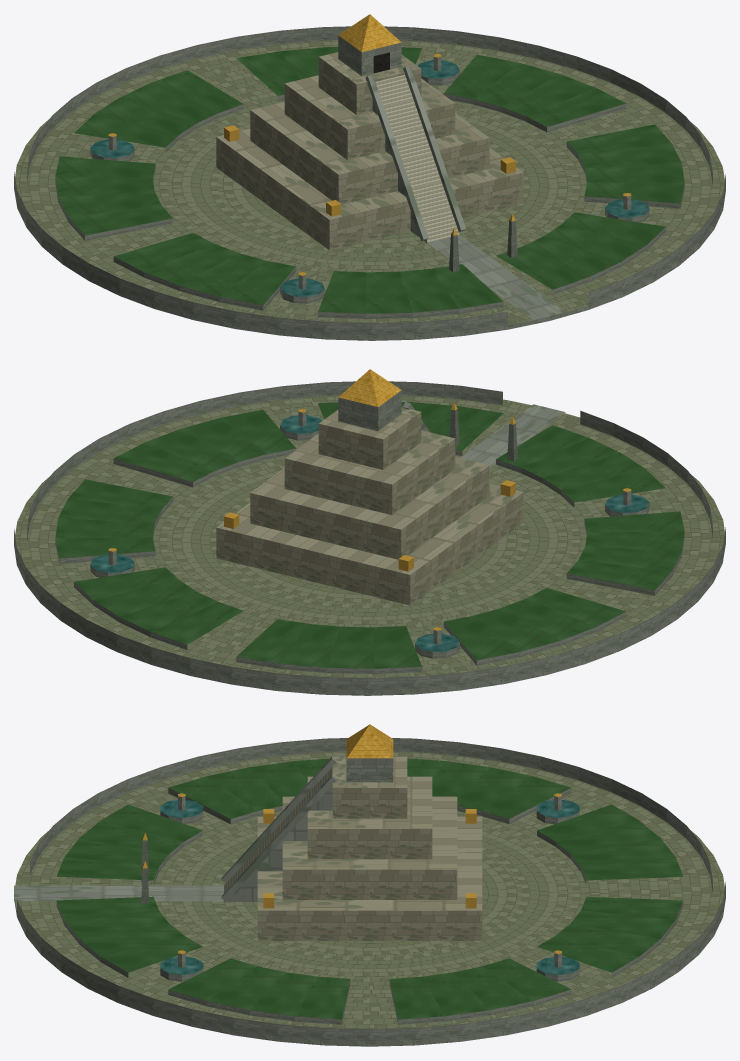
Rendered from pyramid_small_lod0.glb.
3 views of the same model, one above another, from view 1: azimuth 30°, elevation 25°; view 2: azimuth 150°, elevation 25°; view 3: azimuth 270°, elevation 25° (orthographic).
Parts seen in each view (by area): view 1: pyramid_small_lod0; view 2: pyramid_small_lod0; view 3: pyramid_small_lod0.
Part boxes in pixels (<box>): pyramid_small_lod0: <box>14,14,725,340</box>; pyramid_small_lod0: <box>14,369,725,695</box>; pyramid_small_lod0: <box>14,724,725,1046</box>.
Bounding box in the file's own units: 1.88 × 0.512 × 1.9.
1 material, 1 textured.
